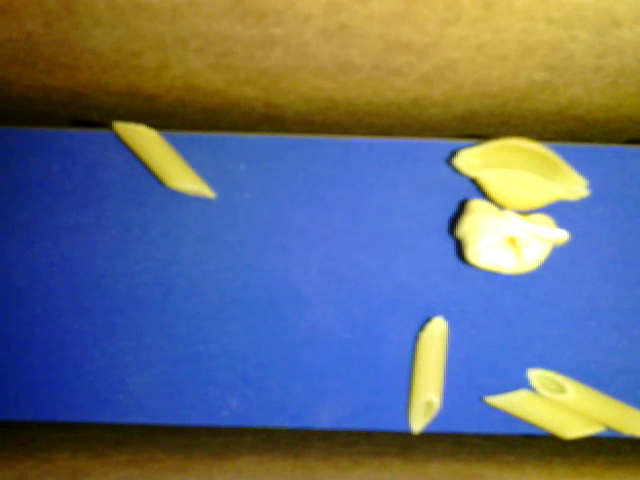penne: (112, 122, 216, 198), (525, 366, 639, 435), (483, 387, 606, 441), (409, 315, 449, 435)
shell: (453, 135, 588, 212)
tortellini: (455, 198, 570, 276)
